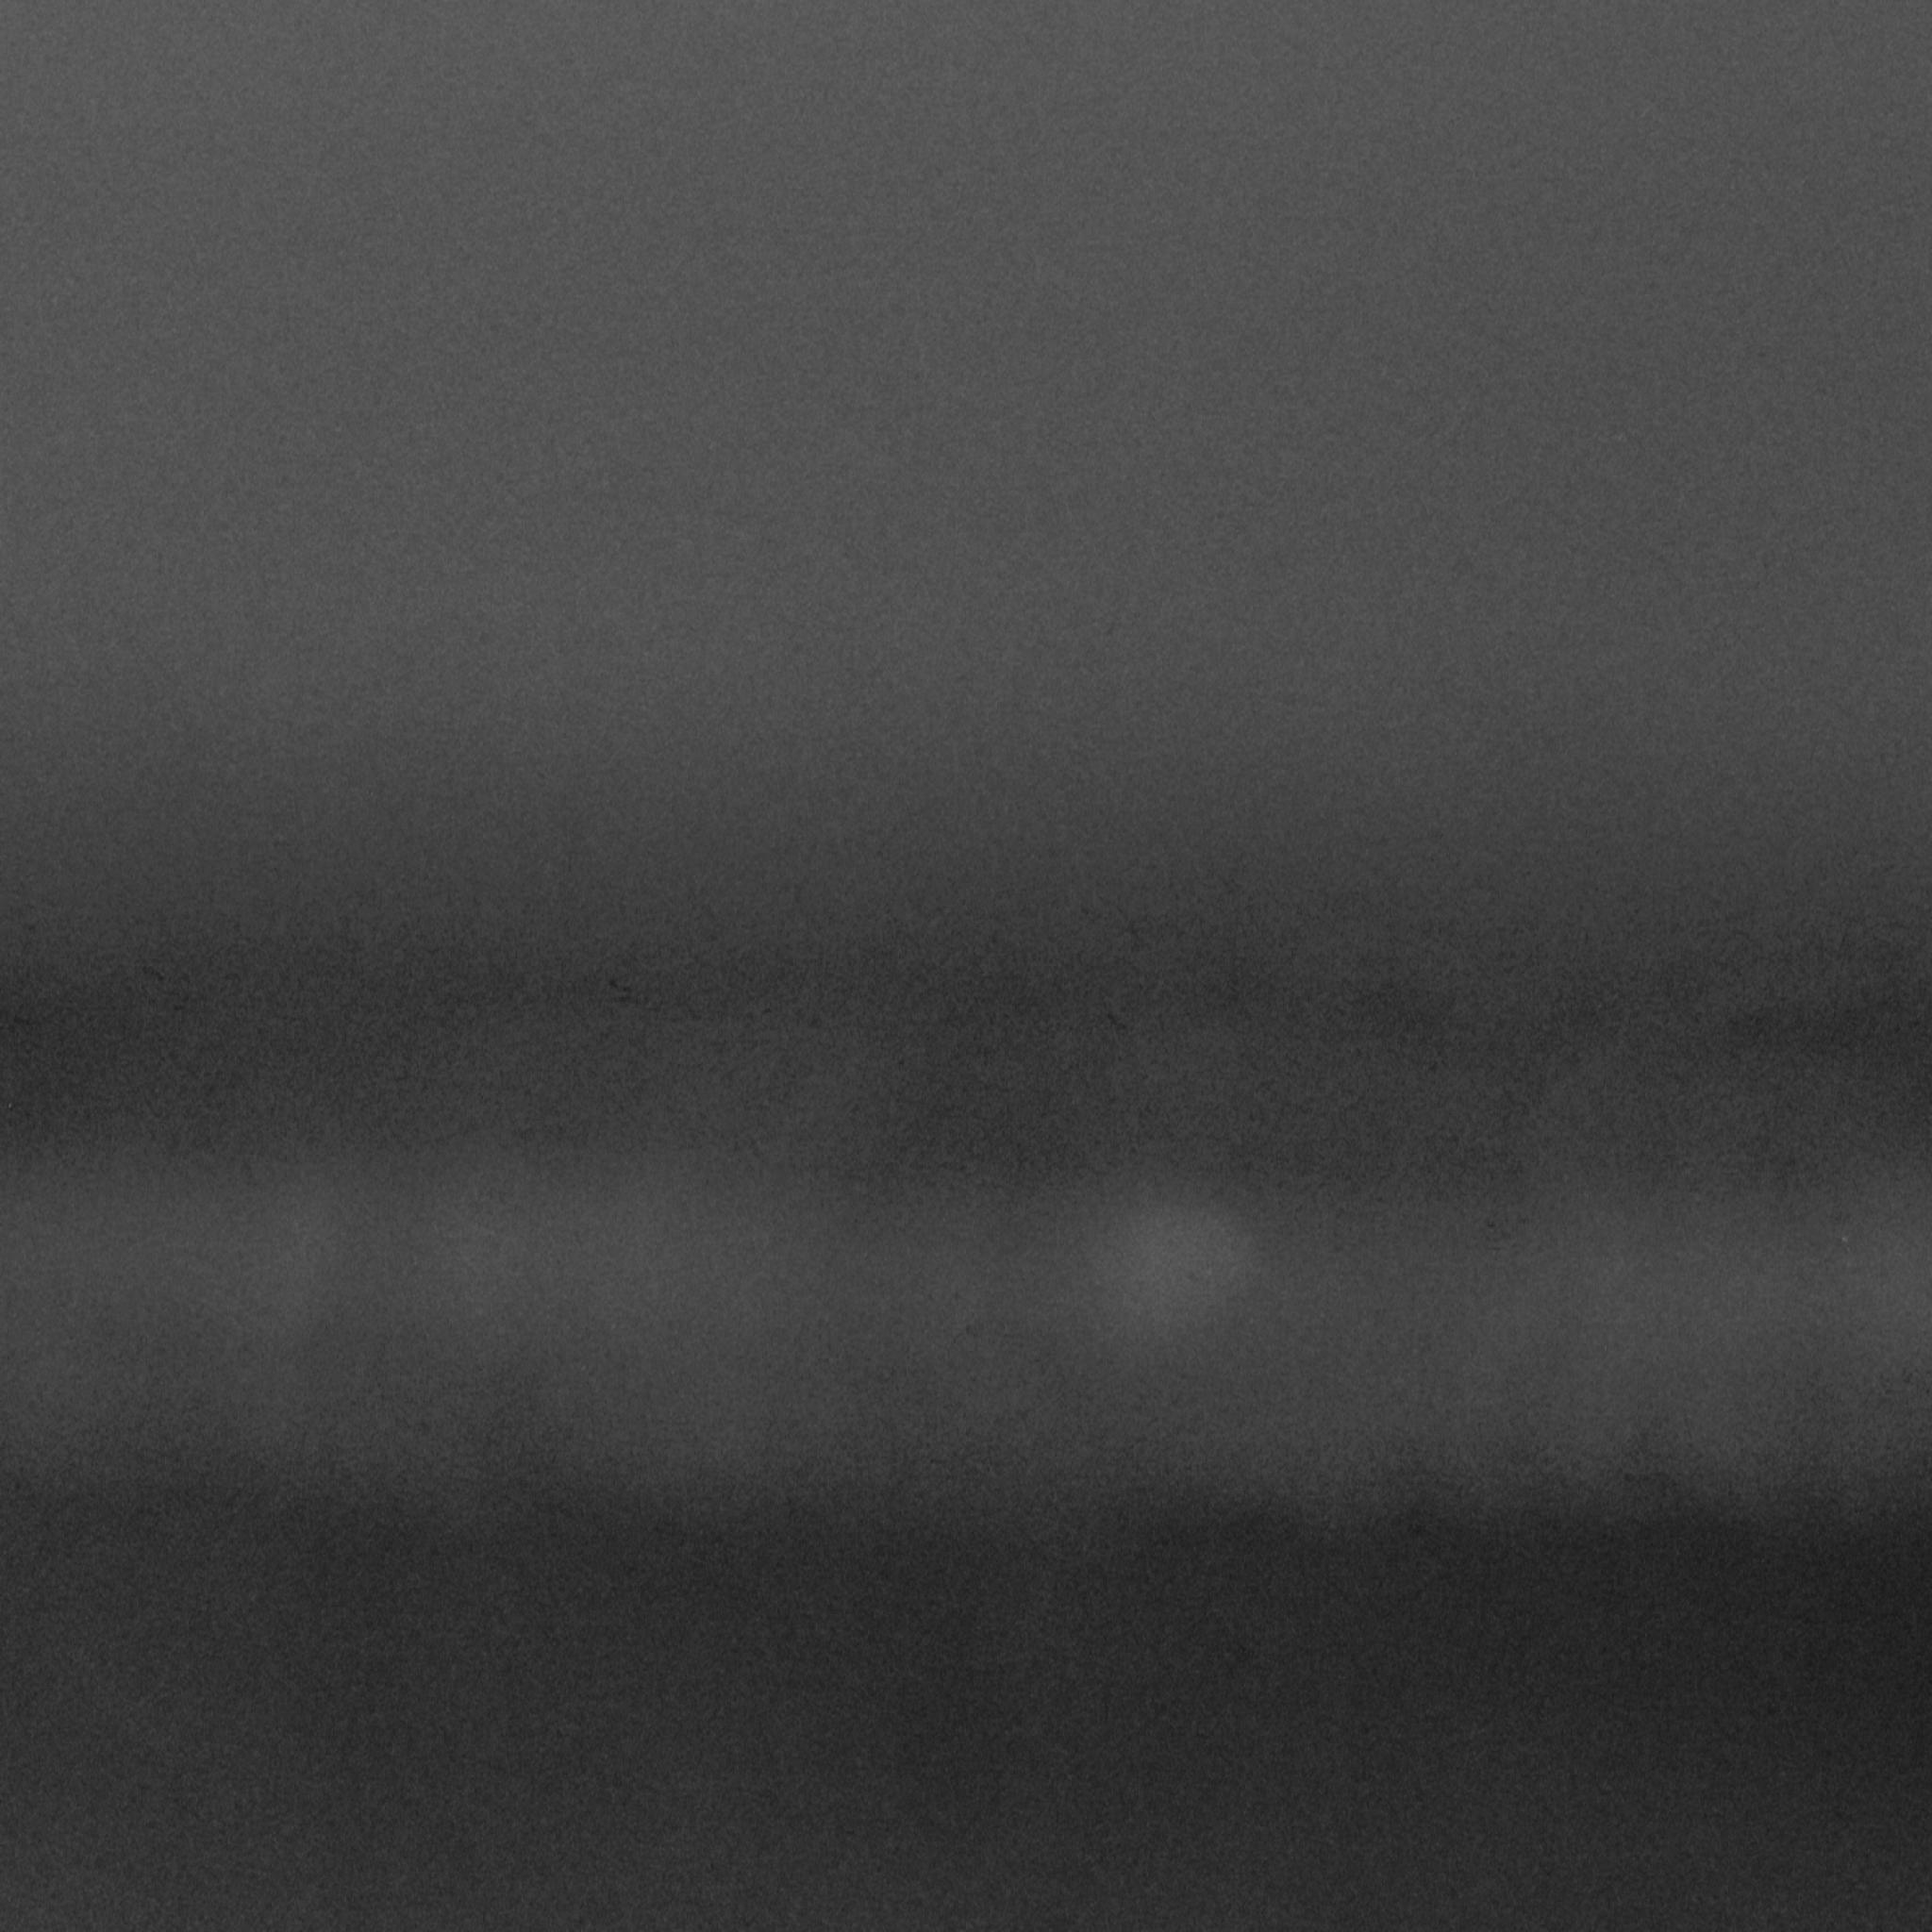Sem defeitos: (0, 847, 1932, 1605)
